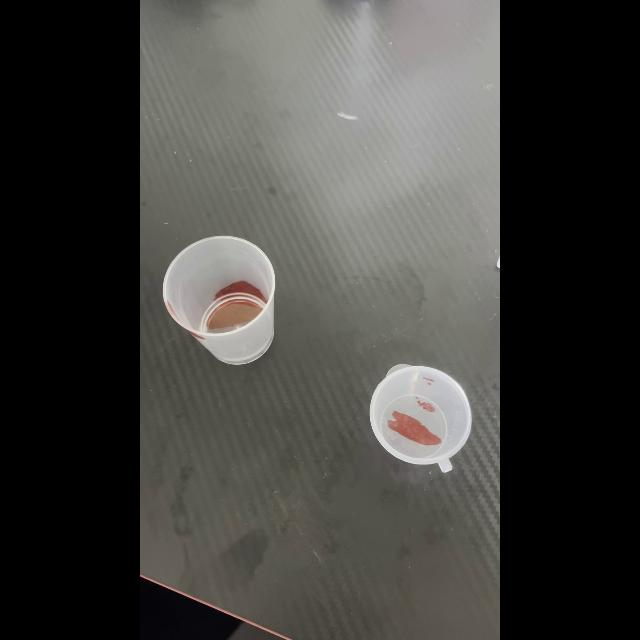dirty: (167, 243, 279, 371), (378, 364, 462, 468)
